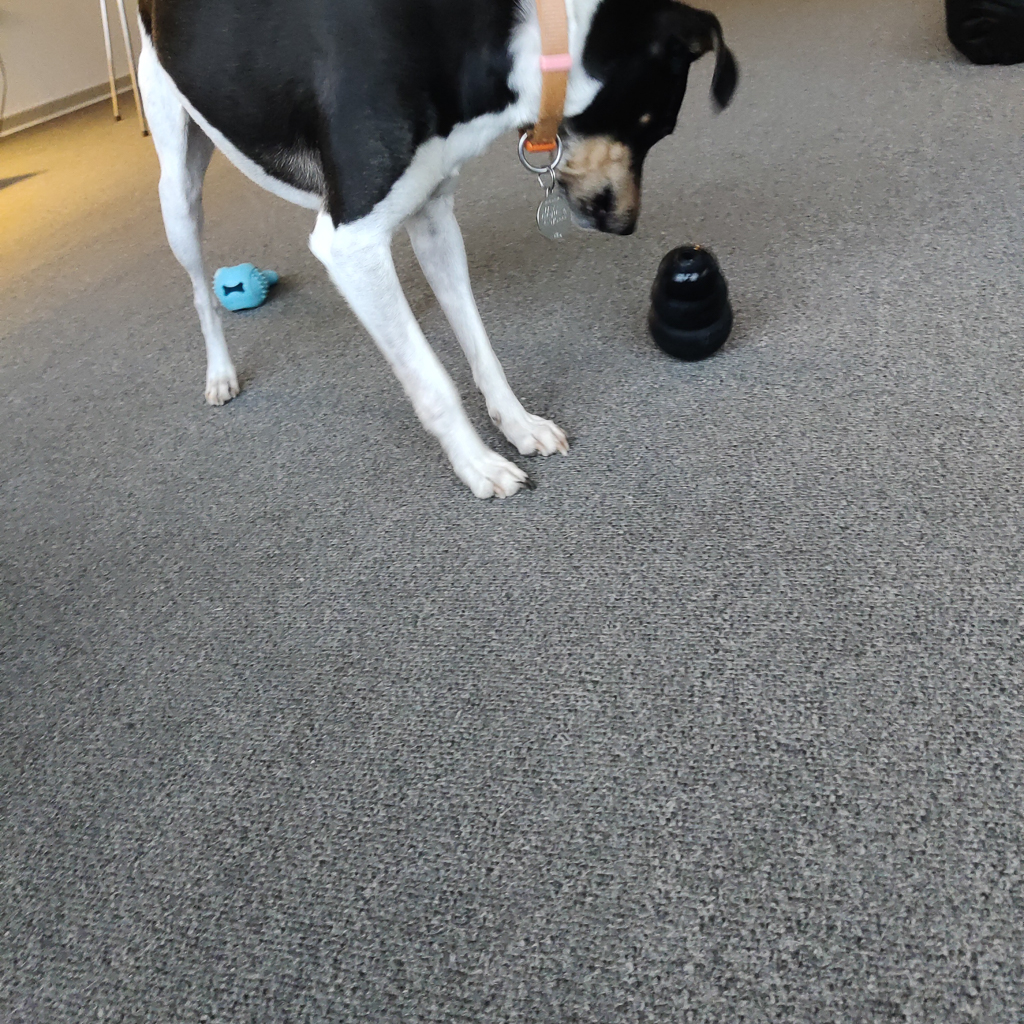Dog: (91, 0, 786, 531)
